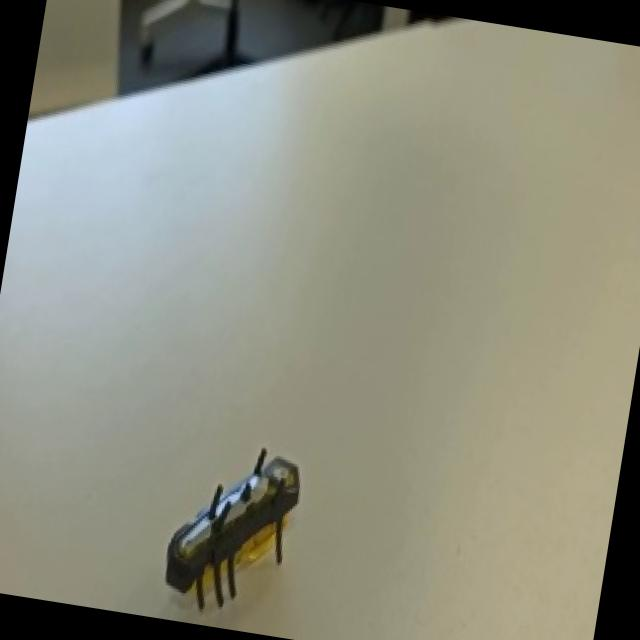6_NanoBug_GrisOscuro: (161, 421, 334, 640)
